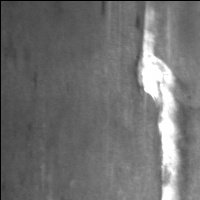inclusion: (4, 30, 30, 64)
scratches: (136, 2, 185, 200)
